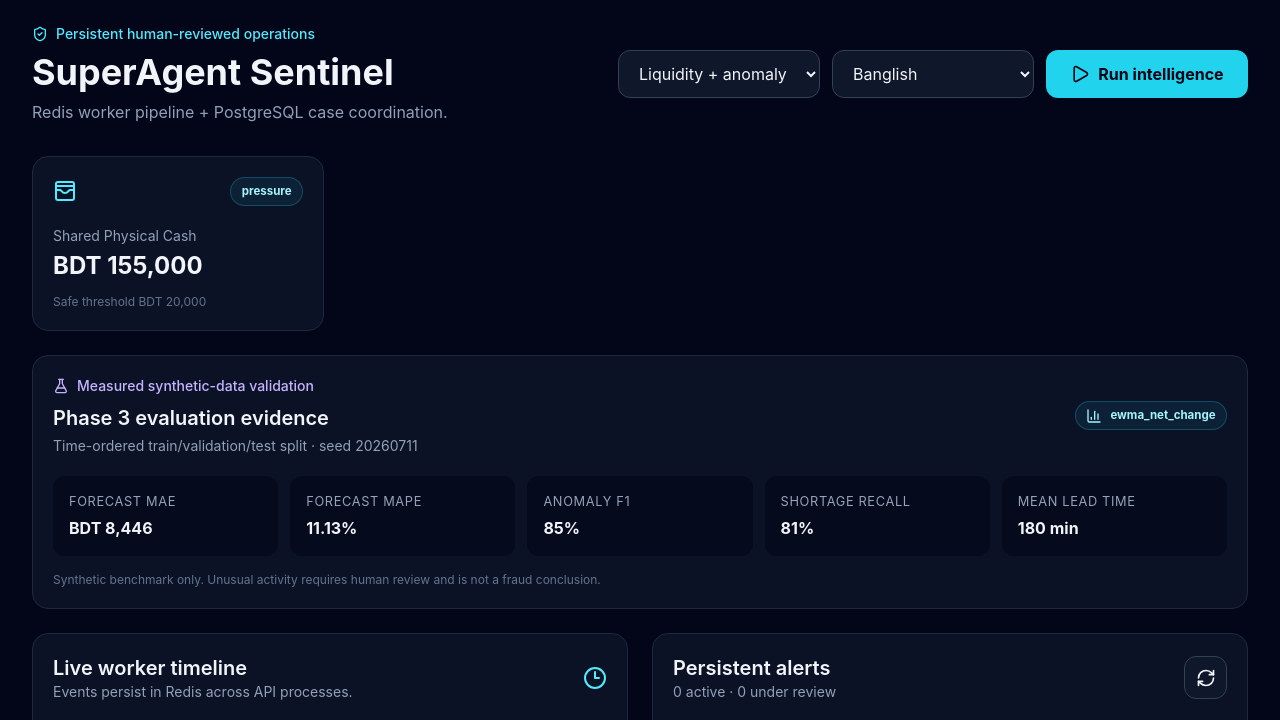
App analysis resilience › falls back to polling and reports a polling failure
Expected: the heading "Phase 3 evaluation evidence" is shown, [53,406,329,430]
Click the button "Run intelligence".
click(1147, 74)  # box [1046,50,1248,98]
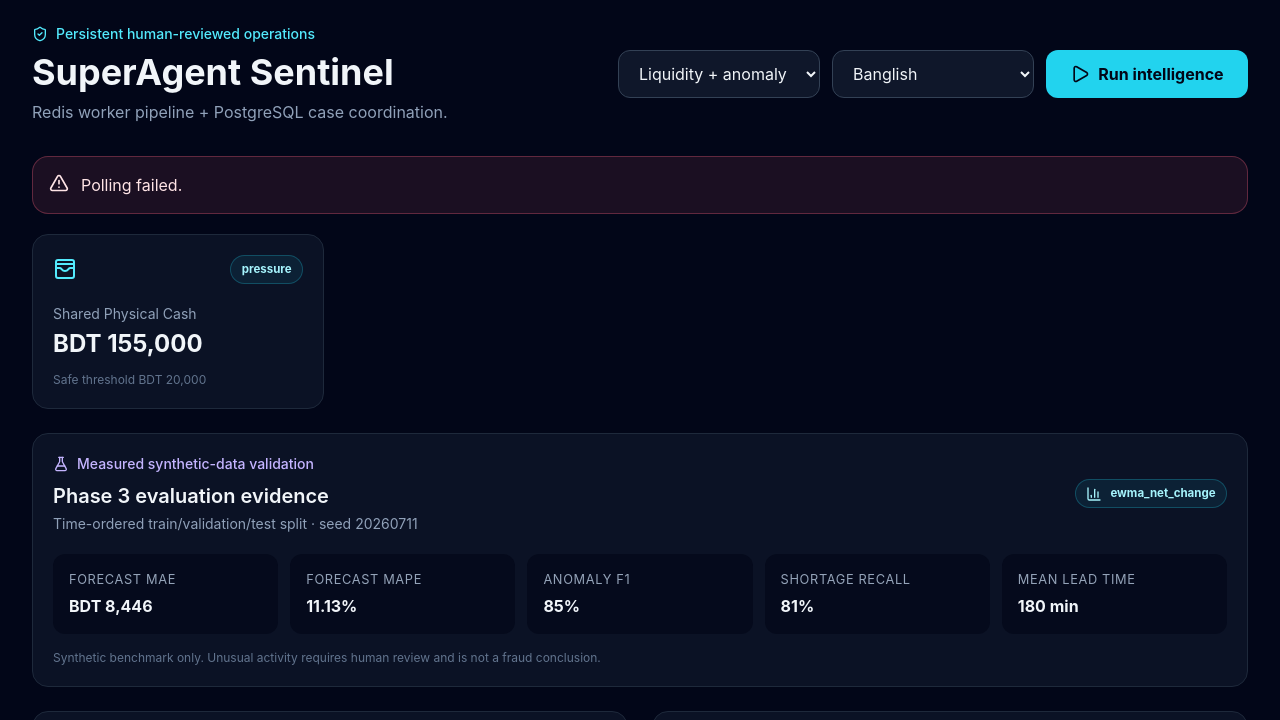
Expected: the text "Polling failed." is shown, [32,156,1248,214]
